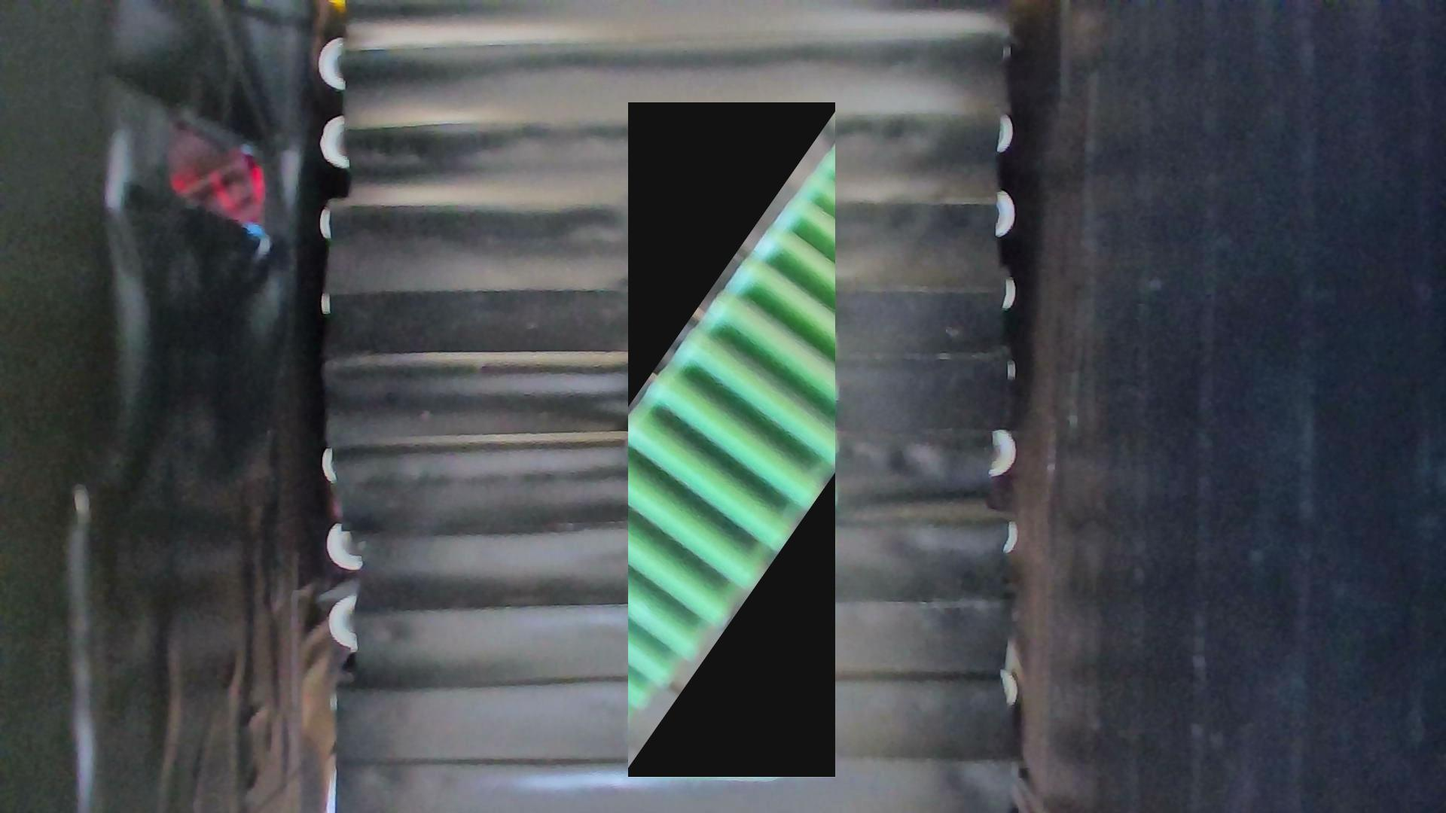gear: (628, 103, 835, 778)
